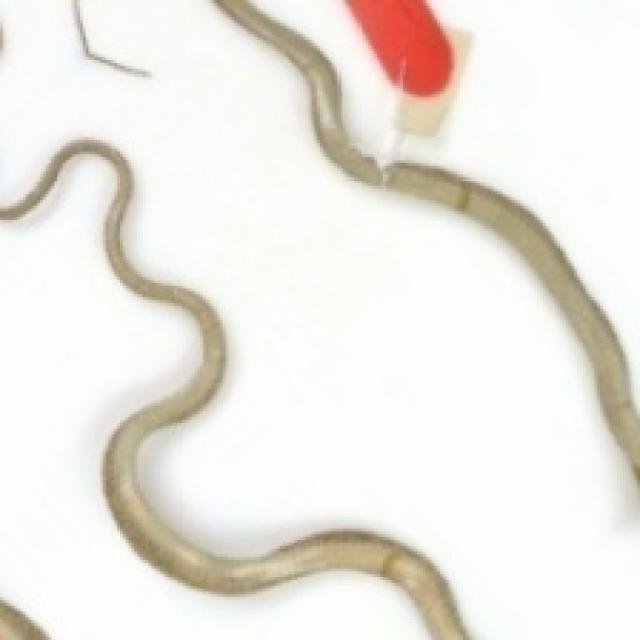mullers wolf snake: (0, 0, 637, 637), (0, 157, 426, 637), (397, 0, 637, 400), (254, 0, 394, 160)
